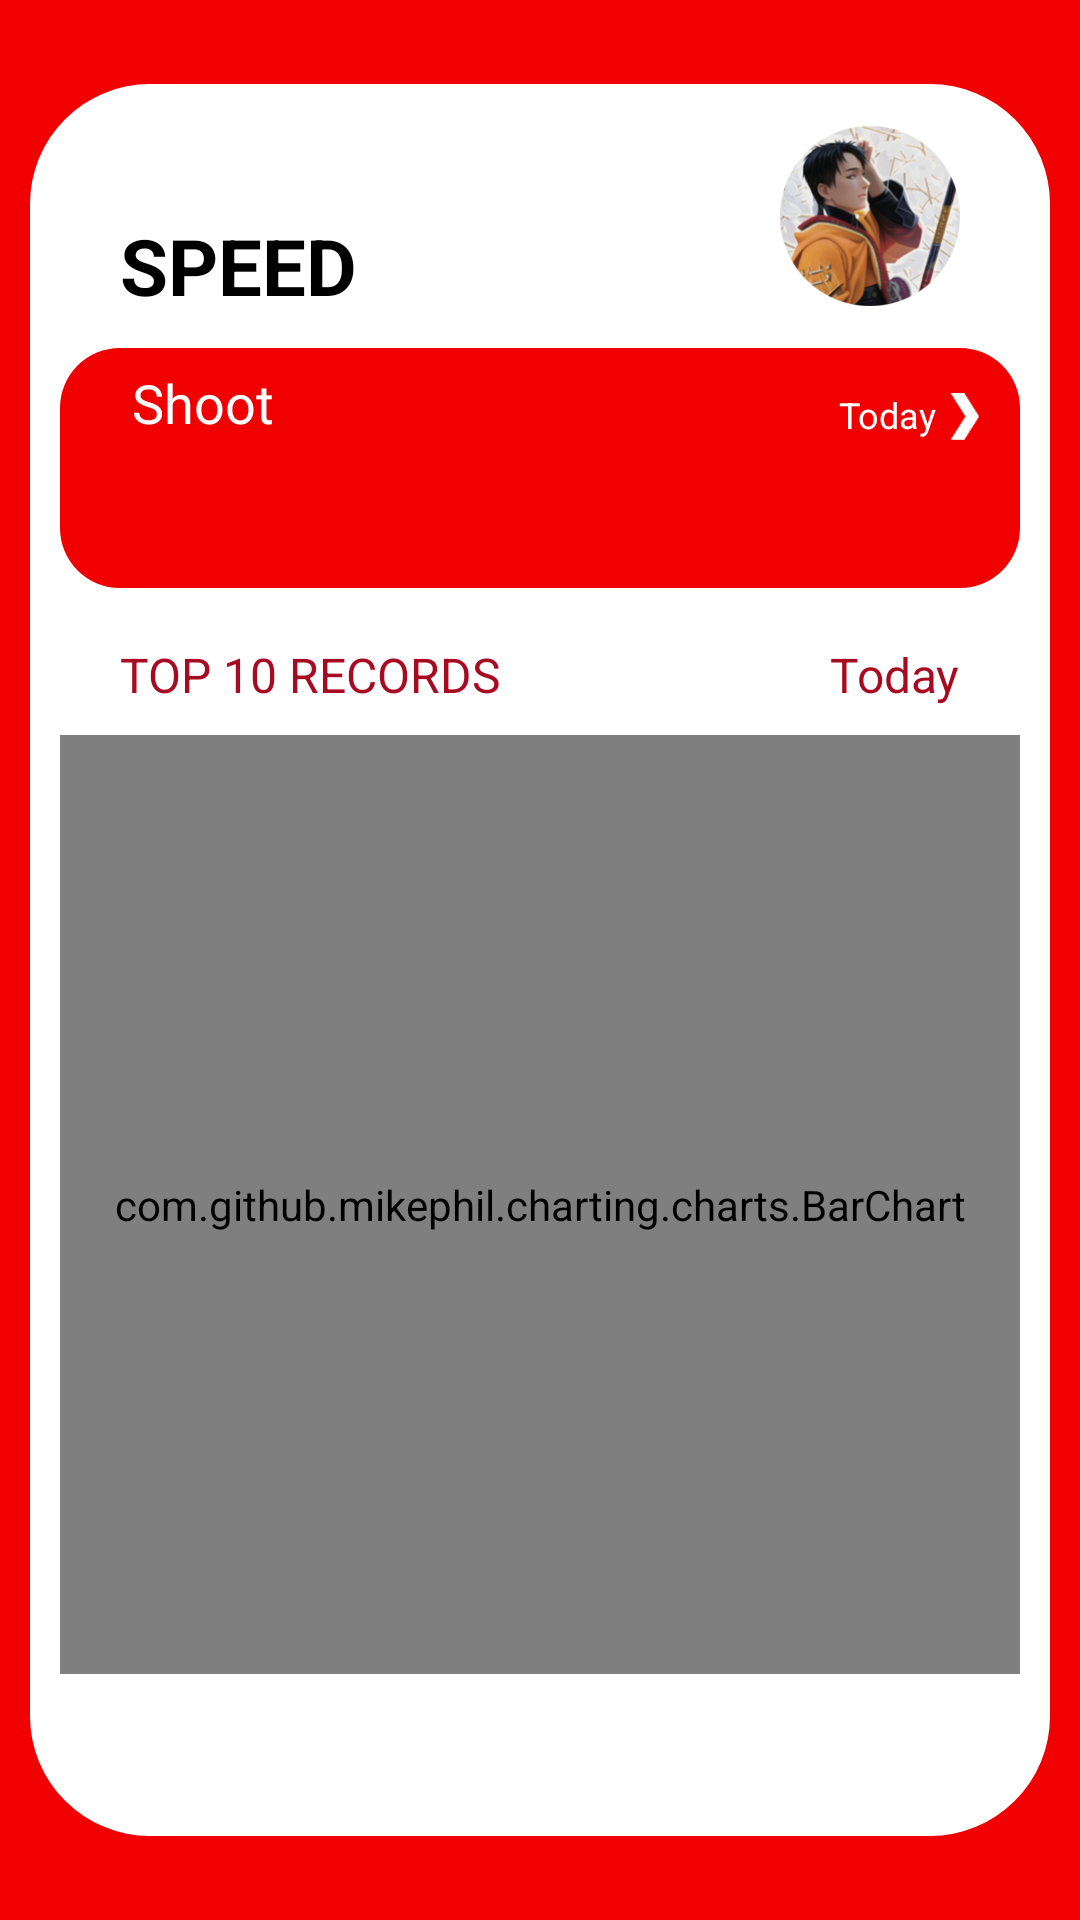

Icons on this 1080 x 1920 Android screen, each with the point to tap as (x,y):
user: (870,216)
